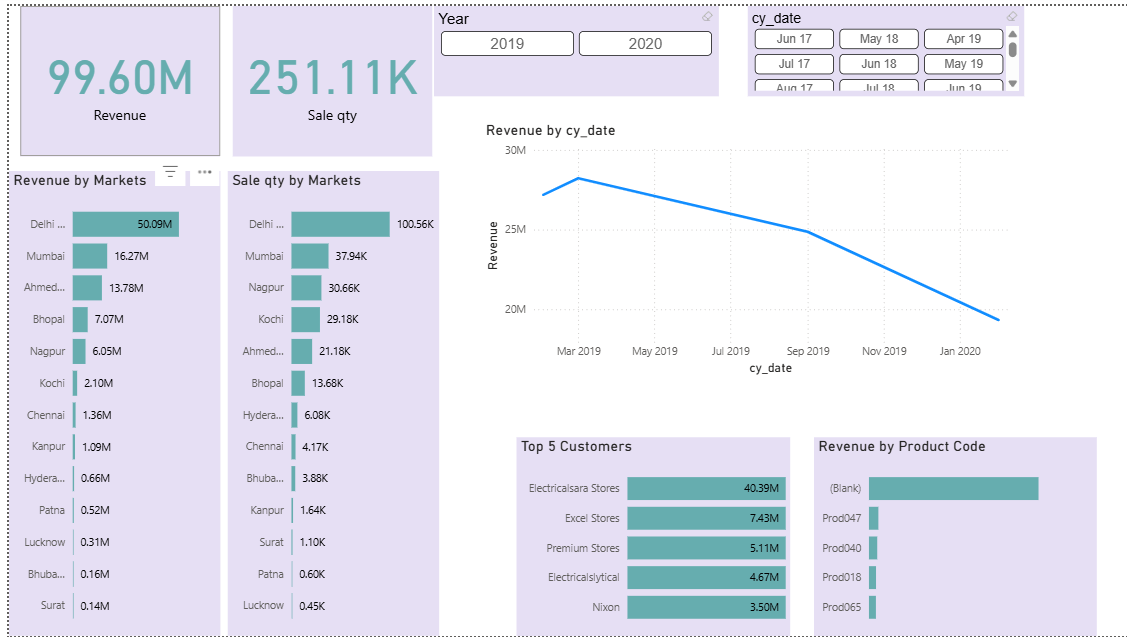

Layout of this report page (visuals, bound fields, positions):
{"tool":"powerbi","page":{"name":"Page 1","canvas":[1280,720],"ordinal":0},"visuals":[{"type":"card","fields":{"Values":["BaseMeasure.Sale qty"]},"box":[255.4,0,228,171.7],"z":0},{"type":"clusteredBarChart","title":"Revenue by Markets","fields":{"Y":["BaseMeasure.Revenue"],"Category":["markets.markets_name"]},"box":[0,188.6,241.4,531.4],"z":1000},{"type":"card","fields":{"Values":["BaseMeasure.Revenue"]},"box":[13,0,228,171.7],"z":2000},{"type":"ChicletSlicer1448559807354","fields":{"Category":["date.year"]},"box":[485.7,0,325.7,102.9],"z":3000},{"type":"ChicletSlicer1448559807354","fields":{"Category":["date.cy_date"]},"box":[844.3,0,315.7,102.9],"z":4000},{"type":"clusteredBarChart","title":"Top 5 Customers","fields":{"Y":["BaseMeasure.Revenue"],"Category":["Customers.custmer_name"]},"box":[580,492.9,312.9,227.1],"z":5000},{"type":"clusteredBarChart","title":"Sale qty by Markets","fields":{"Y":["BaseMeasure.Sale qty"],"Category":["markets.markets_name"]},"box":[250,188.6,241.4,531.4],"z":5001},{"type":"clusteredBarChart","title":"Revenue by Product Code","fields":{"Y":["BaseMeasure.Revenue"],"Category":["products.product_code"]},"box":[920,492.9,322.9,227.1],"z":5002},{"type":"lineChart","fields":{"Y":["BaseMeasure.Revenue"],"Category":["date.cy_date"]},"box":[540,131.4,620,295.7],"z":5003}]}

Visuals, with their boxes in screenshot pixels (x1, y1, x2, y2), scaled from the page's 1280x720 canvas onto the 1127x637 screenshot:
card - BaseMeasure.Sale qty: [left=225, top=0, right=426, bottom=152]
"Revenue by Markets" clusteredBarChart: [left=0, top=167, right=213, bottom=636]
card - BaseMeasure.Revenue: [left=11, top=0, right=212, bottom=152]
ChicletSlicer1448559807354 - date.year: [left=428, top=0, right=714, bottom=91]
ChicletSlicer1448559807354 - date.cy_date: [left=743, top=0, right=1021, bottom=91]
"Top 5 Customers" clusteredBarChart: [left=511, top=436, right=786, bottom=636]
"Sale qty by Markets" clusteredBarChart: [left=220, top=167, right=433, bottom=636]
"Revenue by Product Code" clusteredBarChart: [left=810, top=436, right=1094, bottom=636]
lineChart - BaseMeasure.Revenue x date.cy_date: [left=475, top=116, right=1021, bottom=378]
